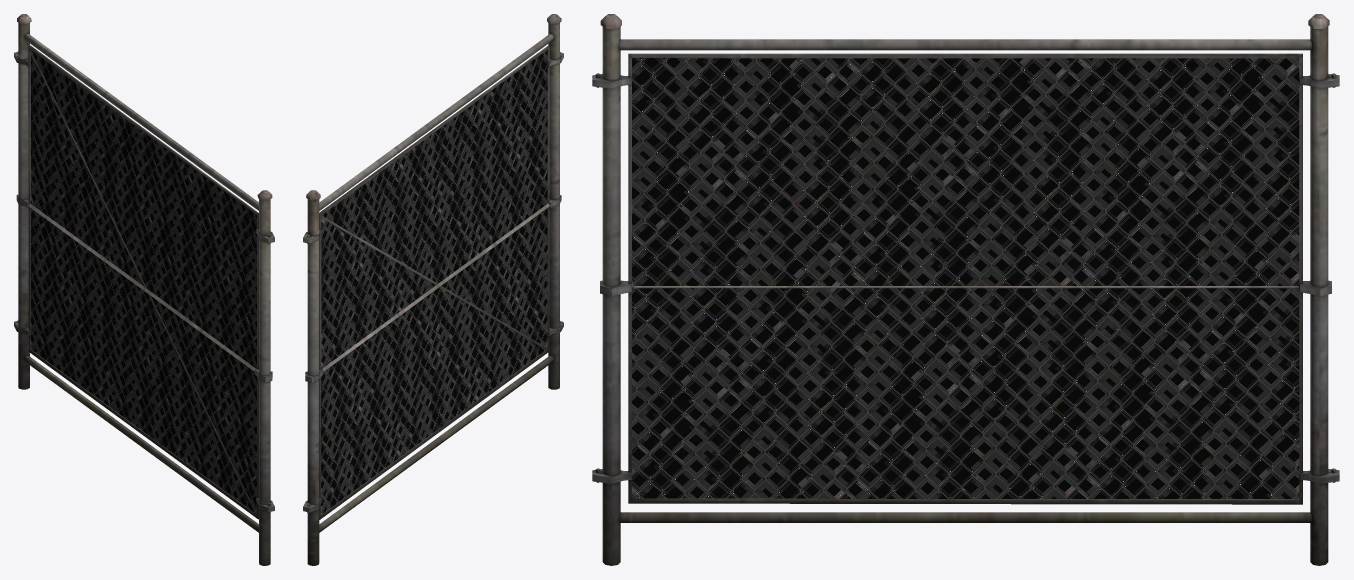
The model's file is fence01a.glb.
3 views of the same model, side by side, from view 1: azimuth 30°, elevation 25°; view 2: azimuth 150°, elevation 25°; view 3: azimuth 270°, elevation 25° (orthographic). The views are drawn at different scales.
Visible parts, largest first — view 1: 1_fence_alpha, 0_fence_composite01; view 2: 1_fence_alpha, 0_fence_composite01; view 3: 1_fence_alpha, 0_fence_composite01.
Part boxes in pixels (x1,y1,x2,y2): 1_fence_alpha: (30,50,256,513); 0_fence_composite01: (14,14,274,565); 1_fence_alpha: (321,50,547,514); 0_fence_composite01: (303,14,563,565); 1_fence_alpha: (632,58,1299,498); 0_fence_composite01: (592,14,1339,565).
Bounding box in the file's own units: 0.1126 × 2.76 × 3.42.
Materials: 2 (2 with a texture image).
